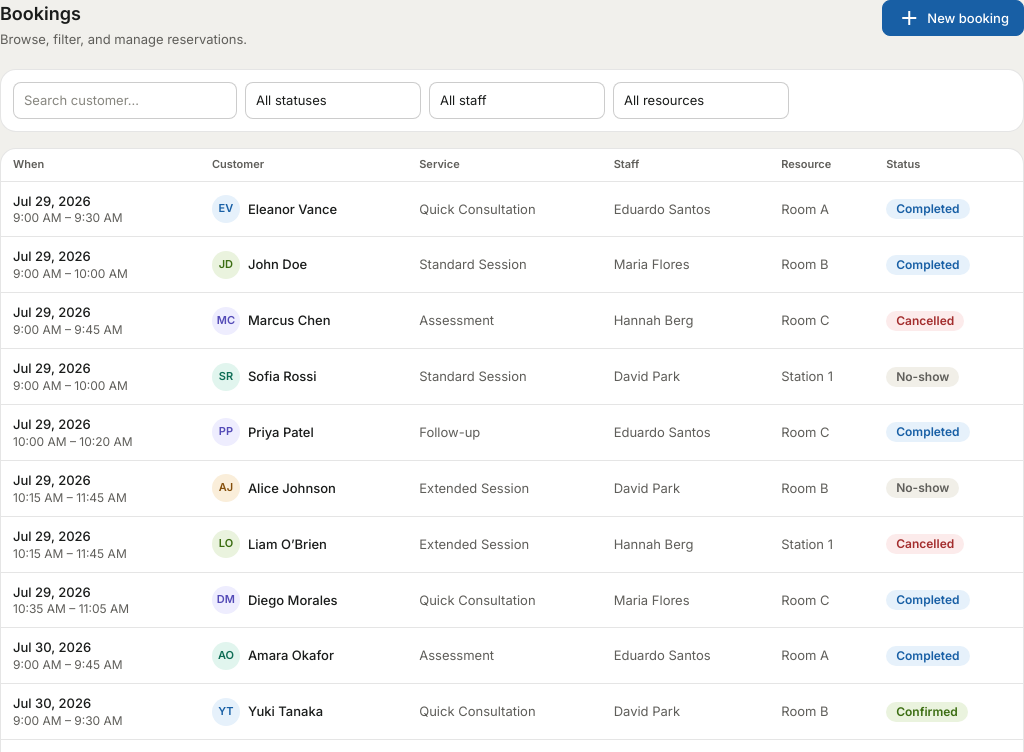
Test: BookingsPage › shows an empty state when a filter matches nothing
Type a name that does not exist in the seed.
Type "Zzzz Nobody" into the field with placeholder "Search customer…". click: (125, 100)
box: [13,82,237,119]
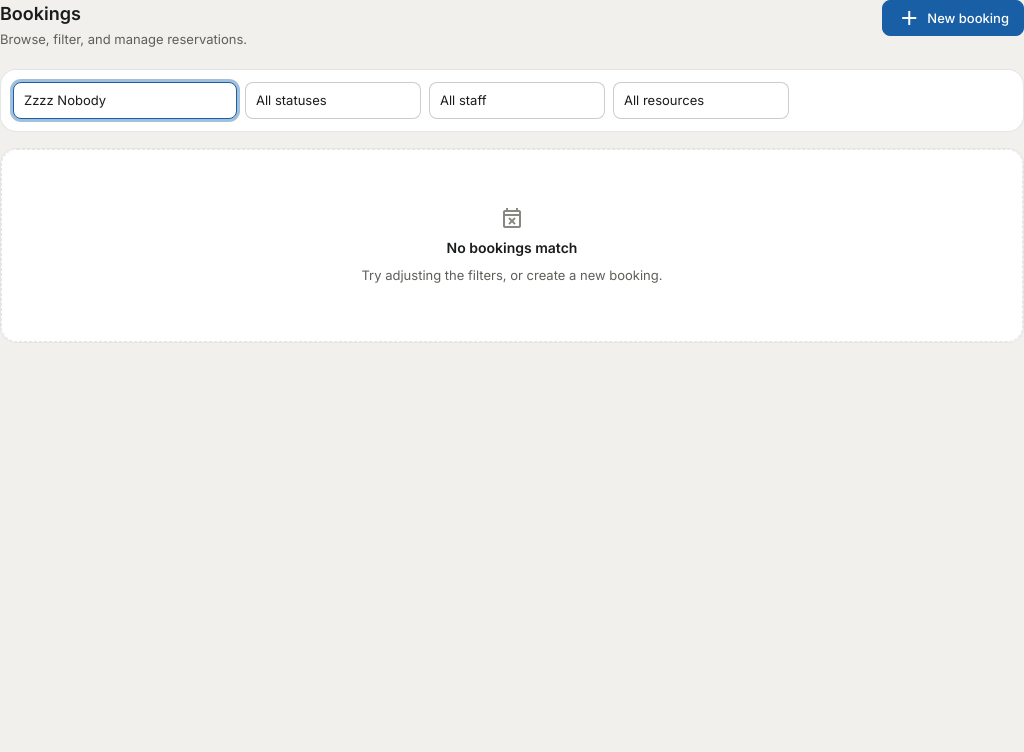
Expected: the text "No bookings match" is shown, [447,238,577,258]
